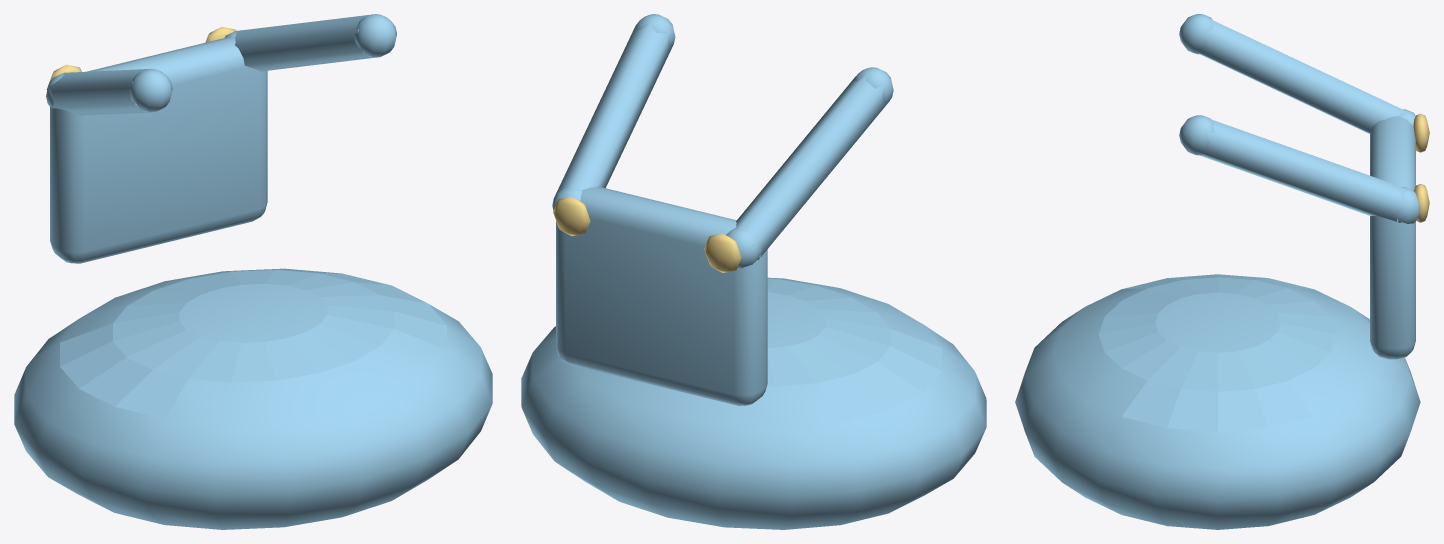
Rendered from Top_Overalls.fbx.
3 views of the same model, side by side, from view 1: azimuth 30°, elevation 25°; view 2: azimuth 150°, elevation 25°; view 3: azimuth 270°, elevation 25° (orthographic). The views are drawn at different scales.
Parts seen in each view (by area): view 1: Overall_Seat, Overall_Bib, Overall_Strap, Overall_Strap.001, Overall_Strap_Cap.003, Overall_Strap_Cap.001; view 2: Overall_Seat, Overall_Bib, Overall_Strap.001, Overall_Strap, Overall_Button.001, Overall_Button, Overall_Strap_Cap.002, Overall_Strap_Cap.003, Overall_Strap_Cap.001; view 3: Overall_Seat, Overall_Bib, Overall_Strap, Overall_Strap.001, Overall_Strap_Cap.001, Overall_Strap_Cap.003, Overall_Strap_Cap, Overall_Button.001.
Boxes of the visible parts, x1=… form: Overall_Seat: x1=14, y1=268, x2=492, y2=529; Overall_Bib: x1=50, y1=37, x2=267, y2=263; Overall_Strap: x1=234, y1=15, x2=374, y2=71; Overall_Strap.001: x1=48, y1=69, x2=154, y2=115; Overall_Strap_Cap.003: x1=130, y1=68, x2=172, y2=112; Overall_Strap_Cap.001: x1=354, y1=14, x2=396, y2=57; Overall_Seat: x1=521, y1=277, x2=986, y2=529; Overall_Bib: x1=556, y1=186, x2=767, y2=405; Overall_Strap.001: x1=735, y1=74, x2=889, y2=260; Overall_Strap: x1=554, y1=21, x2=672, y2=197; Overall_Button.001: x1=704, y1=233, x2=741, y2=272; Overall_Button: x1=553, y1=196, x2=590, y2=235; Overall_Strap_Cap.002: x1=726, y1=227, x2=761, y2=268; Overall_Strap_Cap.003: x1=854, y1=67, x2=893, y2=102; Overall_Strap_Cap.001: x1=636, y1=14, x2=675, y2=46; Overall_Seat: x1=1015, y1=274, x2=1420, y2=529; Overall_Bib: x1=1370, y1=116, x2=1415, y2=359; Overall_Strap: x1=1197, y1=118, x2=1409, y2=222; Overall_Strap.001: x1=1193, y1=18, x2=1409, y2=133; Overall_Strap_Cap.001: x1=1179, y1=115, x2=1214, y2=155; Overall_Strap_Cap.003: x1=1179, y1=14, x2=1212, y2=54; Overall_Strap_Cap: x1=1395, y1=187, x2=1419, y2=223; Overall_Button.001: x1=1413, y1=113, x2=1429, y2=152.
Bounding box in the file's own units: 50 × 50.2 × 45.
